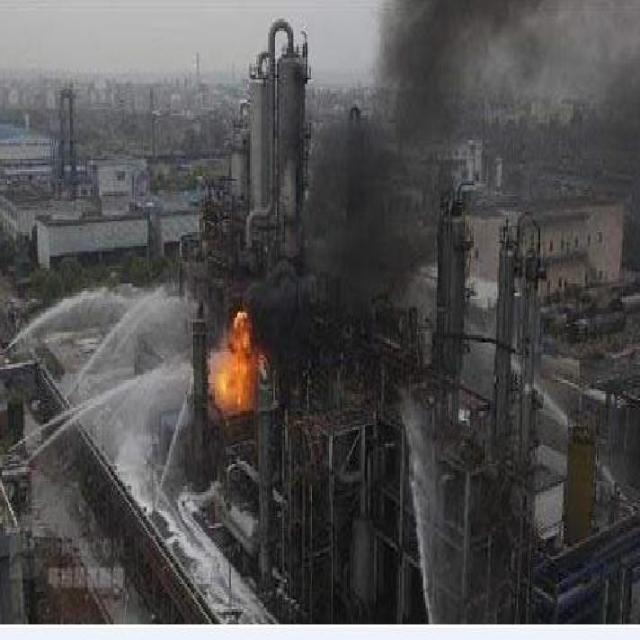fire: (205, 304, 266, 408)
smoke: (374, 0, 635, 146), (288, 111, 424, 330)
